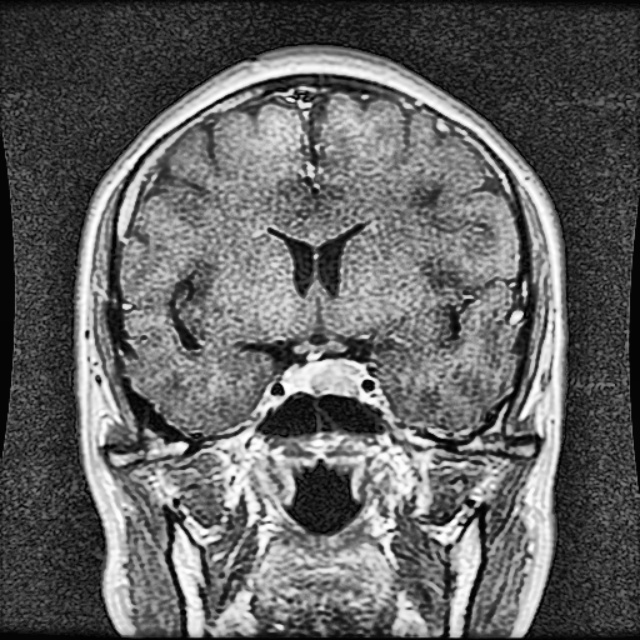Pituitary: (284, 359, 364, 398)
